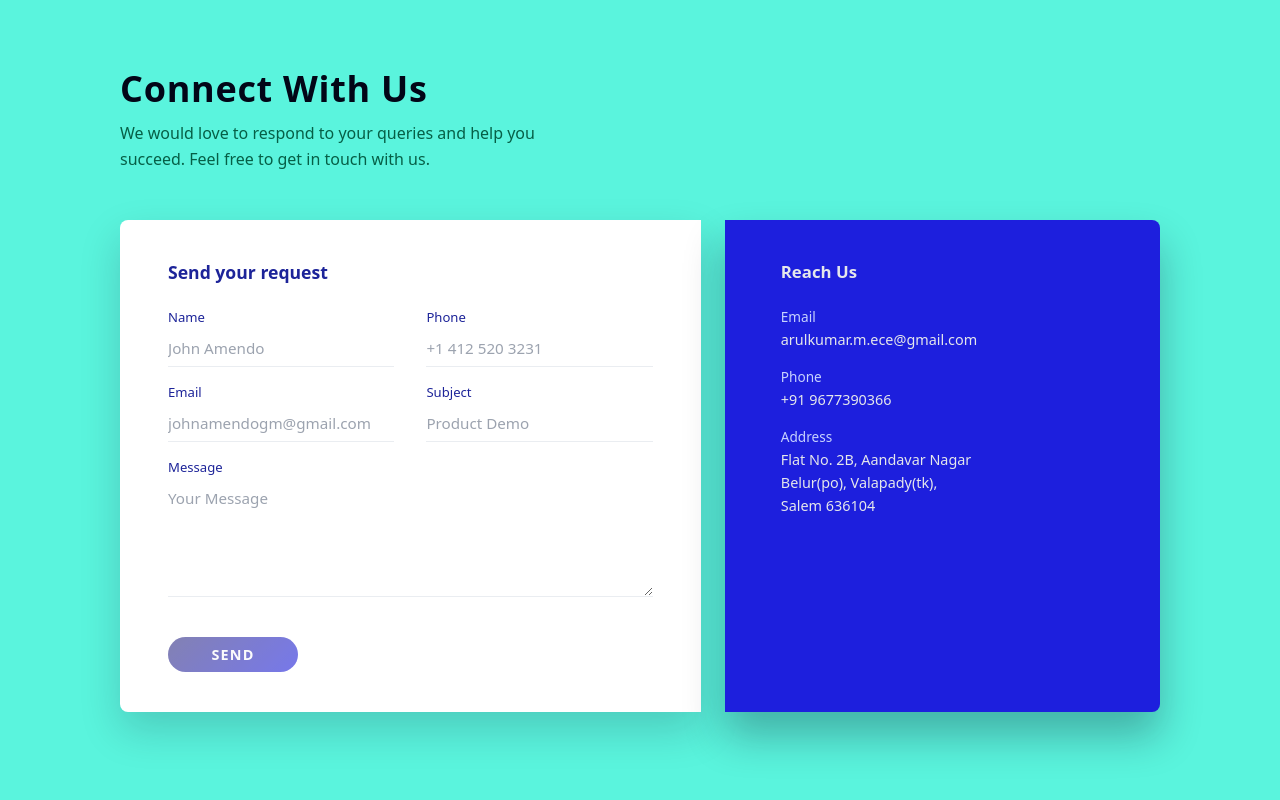
Test: ContactPage validation › shows error for invalid email and short message on submit
In the field labelled "Name": (281, 349) [168, 330, 394, 367], type "Jo"
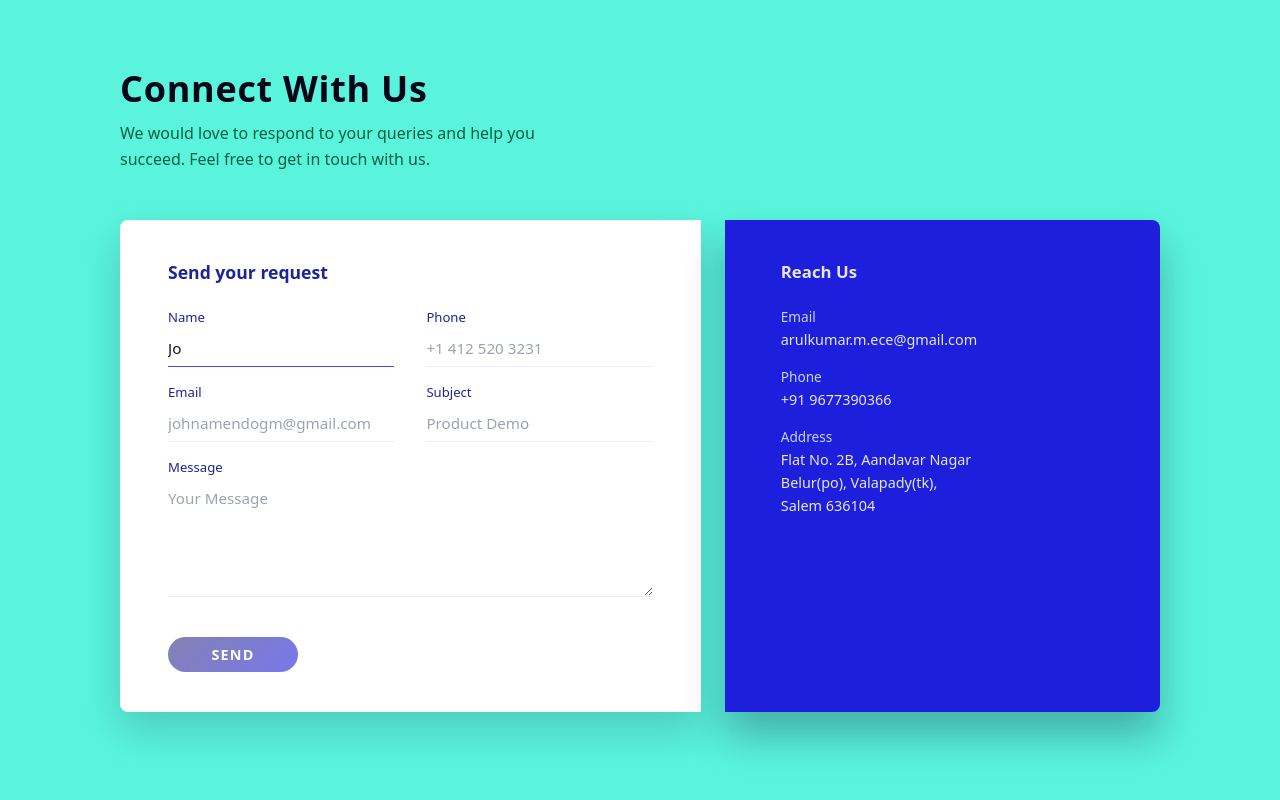
In the field labelled "Email": (281, 424) [168, 405, 394, 442], type "invalid-email"
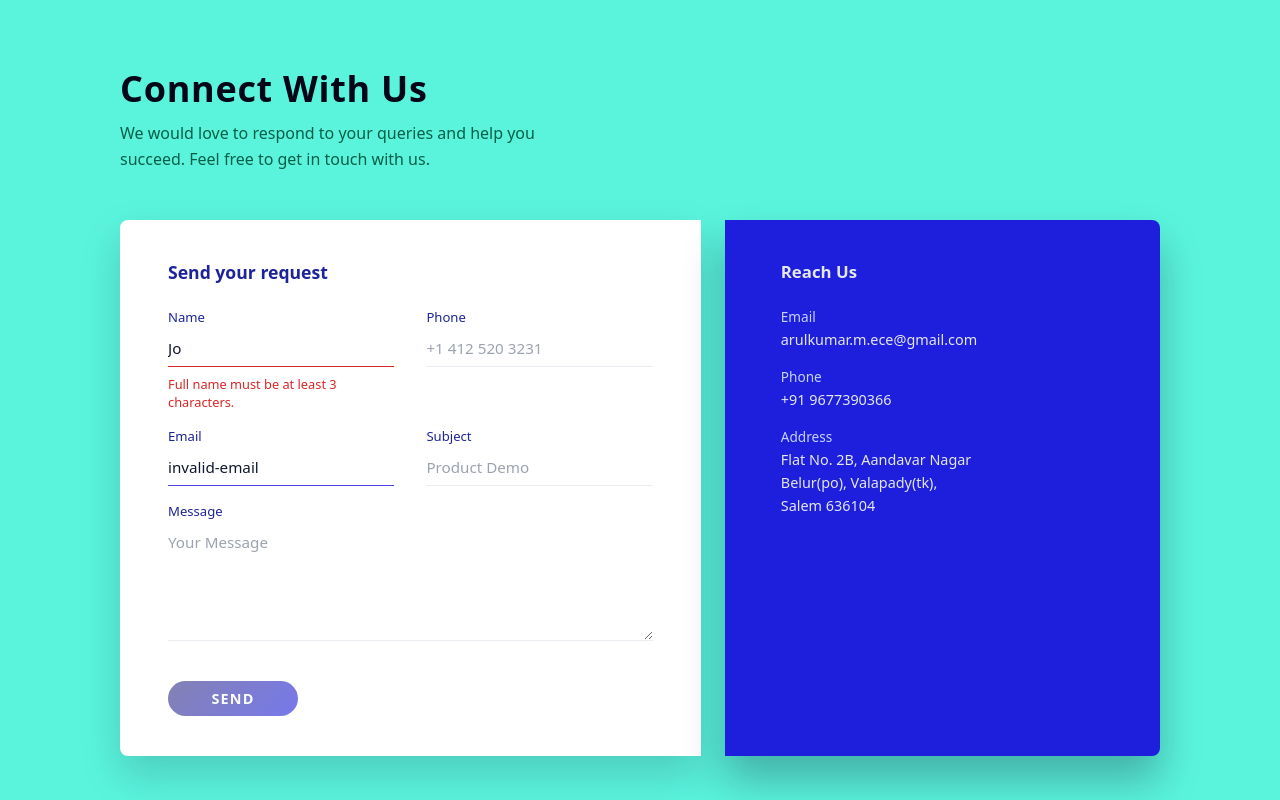
In the text box labelled "Message": (410, 583) [168, 524, 653, 641], type "short"
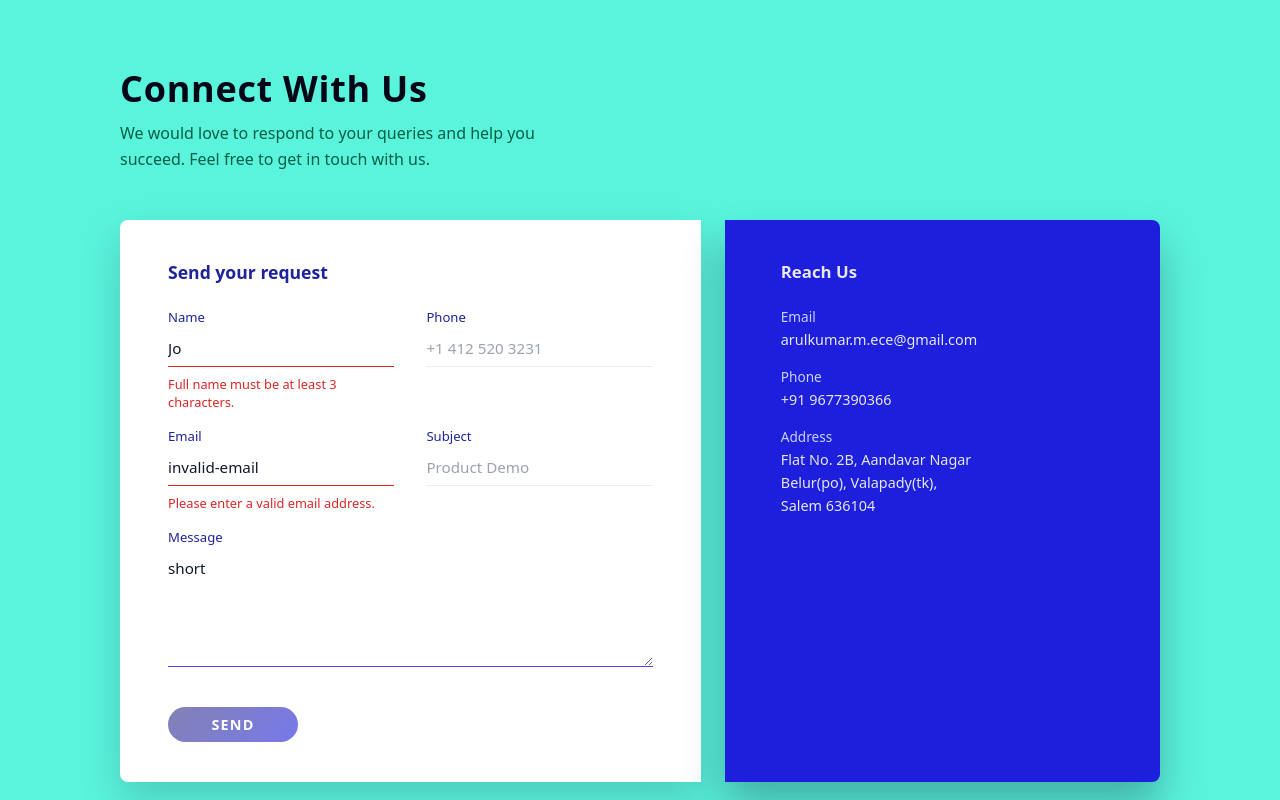
Click the button "Send": click(233, 725) [168, 707, 298, 742]
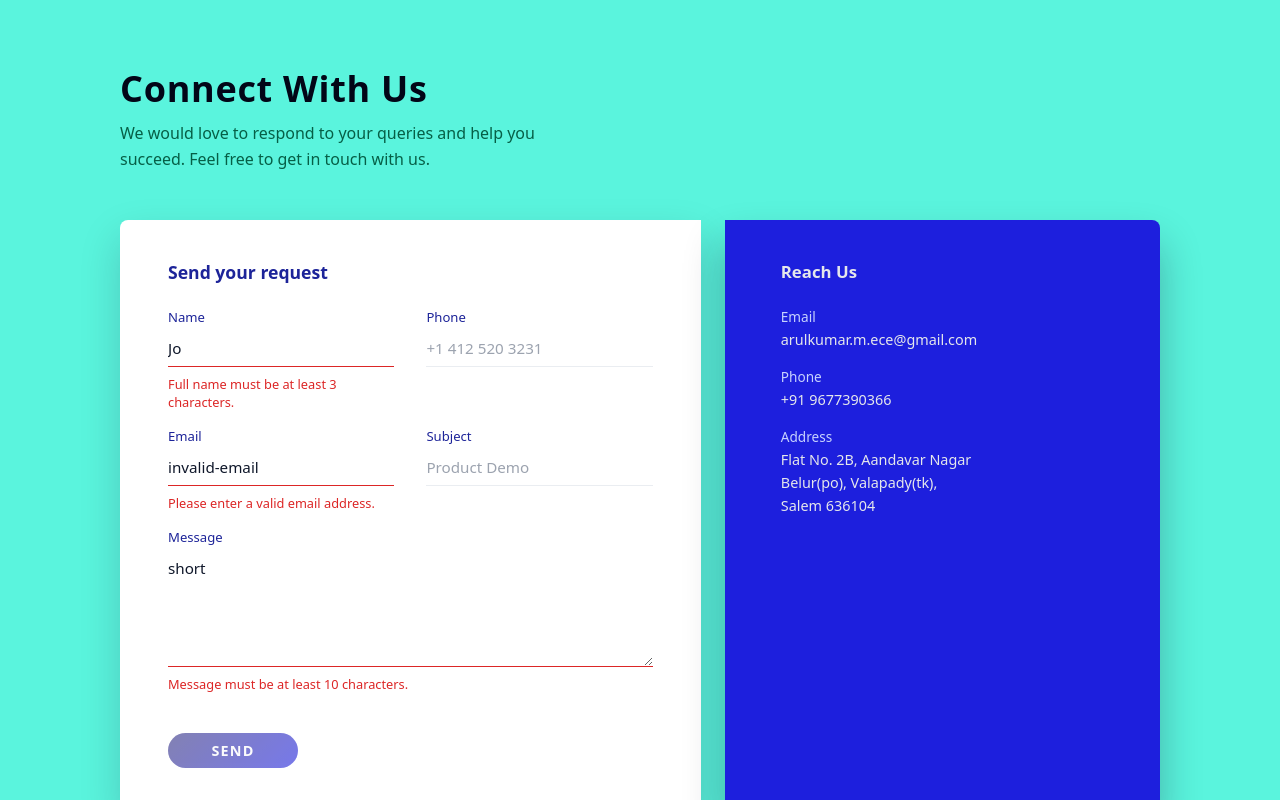
Result: the text "Full name must be at least 3 characters." is shown at [168, 375, 337, 411]
Result: the text "Please enter a valid email address." is shown at [168, 494, 394, 512]
Result: the text "Message must be at least 10 characters." is shown at [168, 675, 408, 693]
